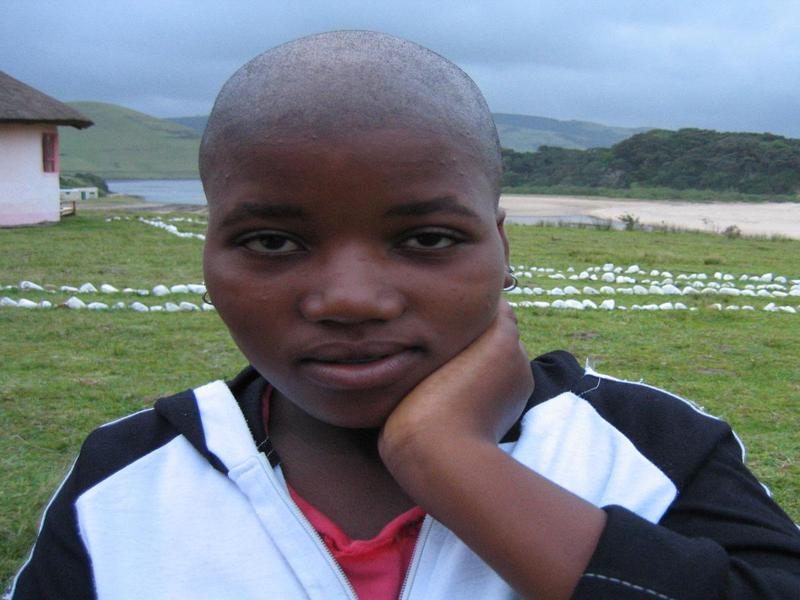person: (28, 28, 800, 599)
